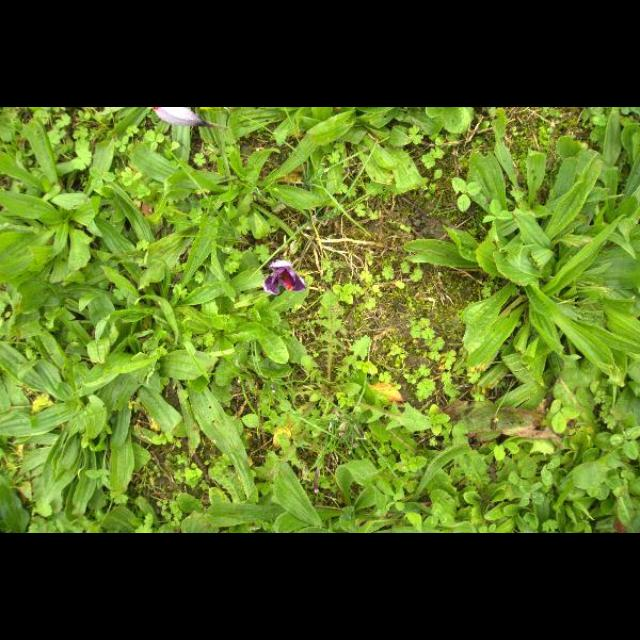flower: (262, 260, 308, 296), (152, 107, 200, 127)
